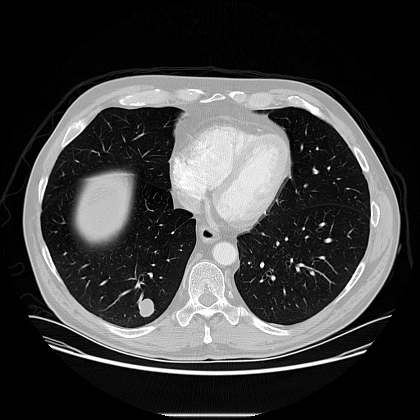nodule: (138, 299, 154, 315)
